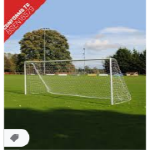goals: (22, 56, 134, 107)
